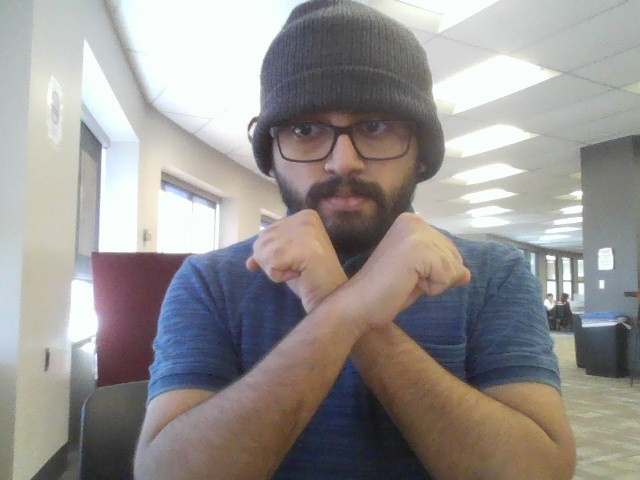cancel: (233, 204, 493, 418)
